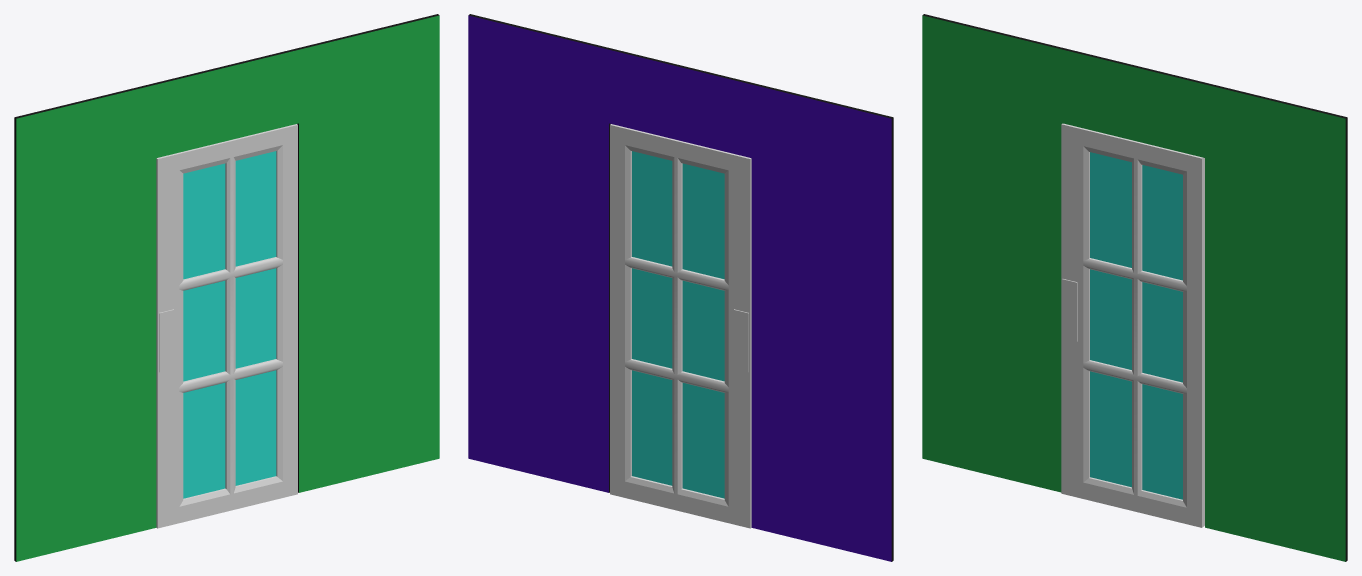
The model's file is Wall With  Single Door.FBX.
3 views of the same model, side by side, from view 1: azimuth 30°, elevation 25°; view 2: azimuth 150°, elevation 25°; view 3: azimuth 330°, elevation 25° (orthographic).
Visible parts, largest first — view 1: Box009, Box010, Plane002, Box011; view 2: Box009, Box010, Plane002, Box011; view 3: Box009, Box010, Plane002, Box011.
Boxes of the visible parts, bbox=[...] form: Box009: bbox=[14, 14, 439, 561]; Box010: bbox=[156, 124, 297, 528]; Plane002: bbox=[183, 151, 276, 498]; Box011: bbox=[159, 309, 174, 372]; Box009: bbox=[468, 14, 893, 561]; Box010: bbox=[610, 124, 751, 528]; Plane002: bbox=[632, 151, 724, 498]; Box011: bbox=[733, 309, 748, 372]; Box009: bbox=[922, 14, 1347, 561]; Box010: bbox=[1061, 123, 1204, 527]; Plane002: bbox=[1090, 152, 1182, 499]; Box011: bbox=[1062, 279, 1077, 341].
Bounding box in the file's own units: 2.44 × 2.44 × 0.0523.
